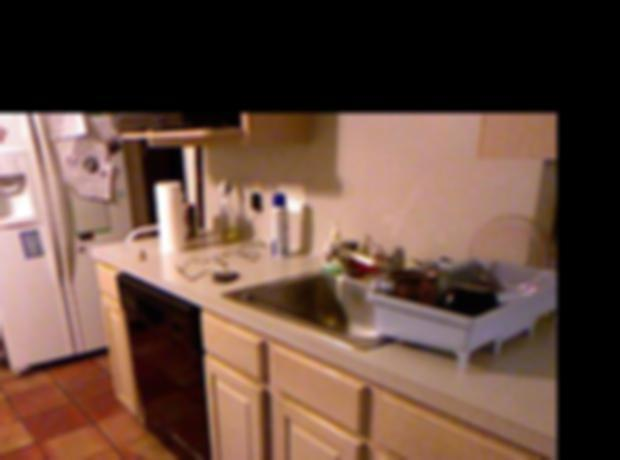Lavaplatos: (227, 227, 439, 367)
